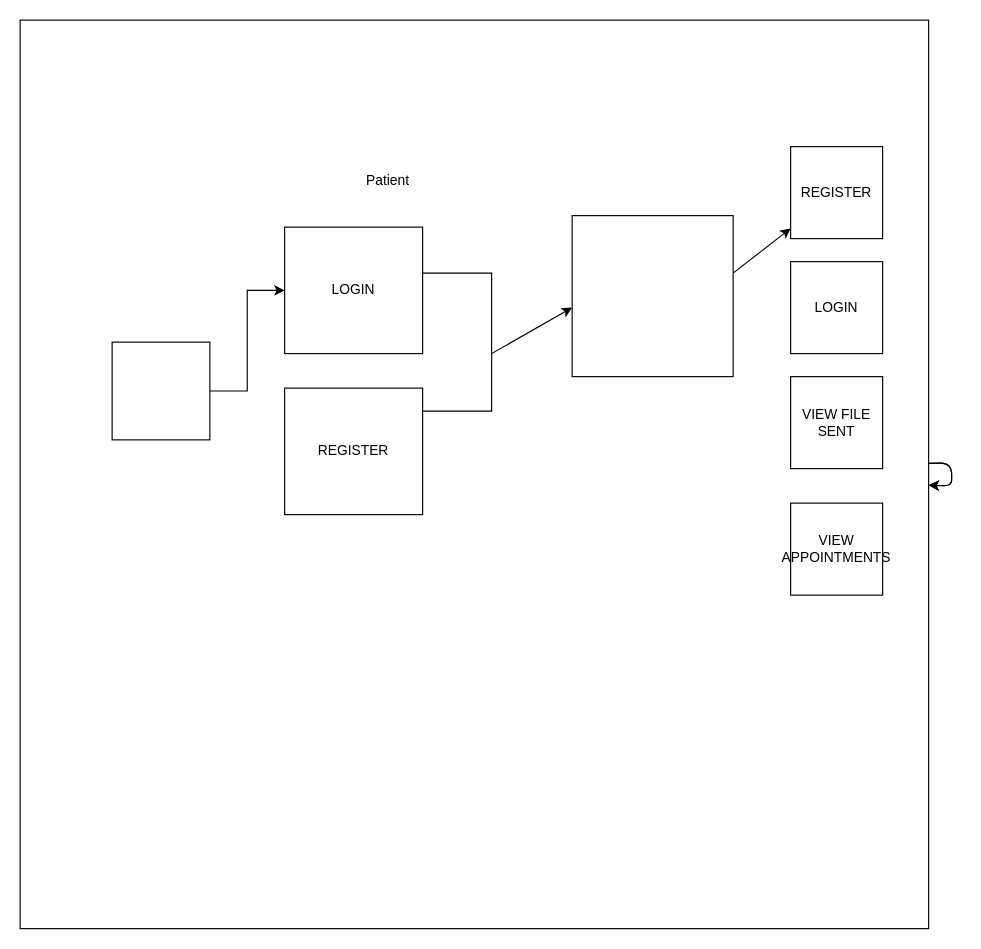
The diagram is 981 pixels wide and 949 high, and some of its shapes have lost their labels. The shapes that lost their labels are listed below. From the top down, each one's centre as x and y in pixels, then its label:
At [652,295]: "DASHBOARD".
At [160,390]: "Splash screen".
